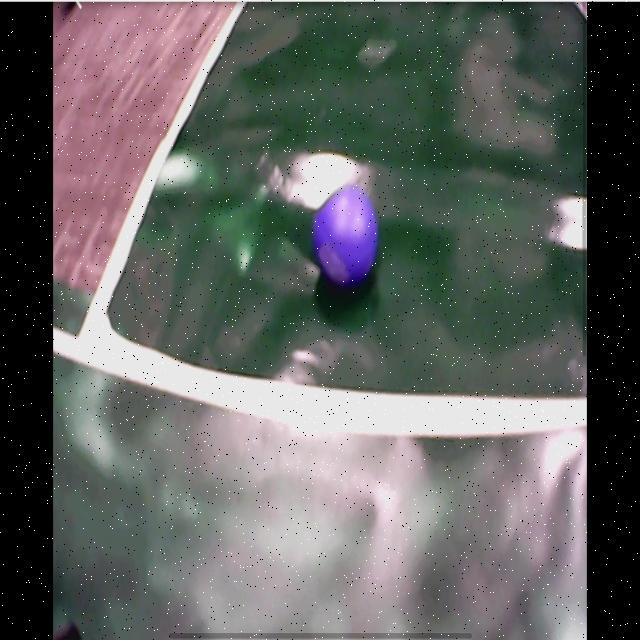ball: (317, 188, 378, 286)
